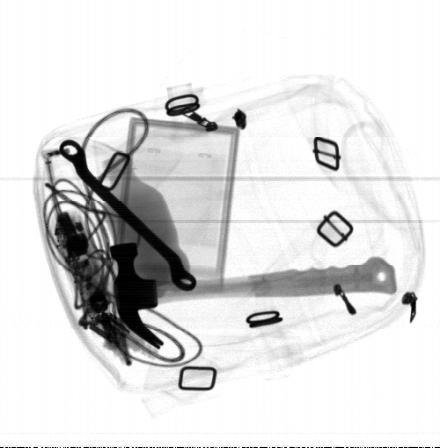Hammer: (108, 241, 398, 351)
Wrench: (60, 139, 198, 292)
